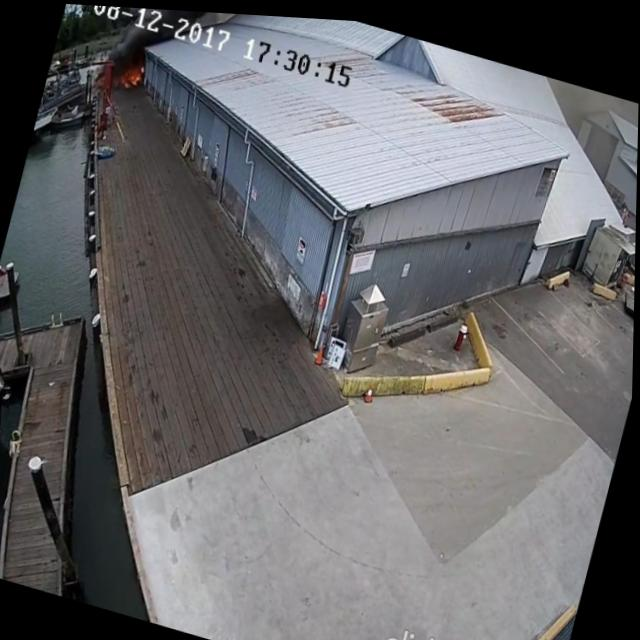fire: (116, 54, 149, 93)
